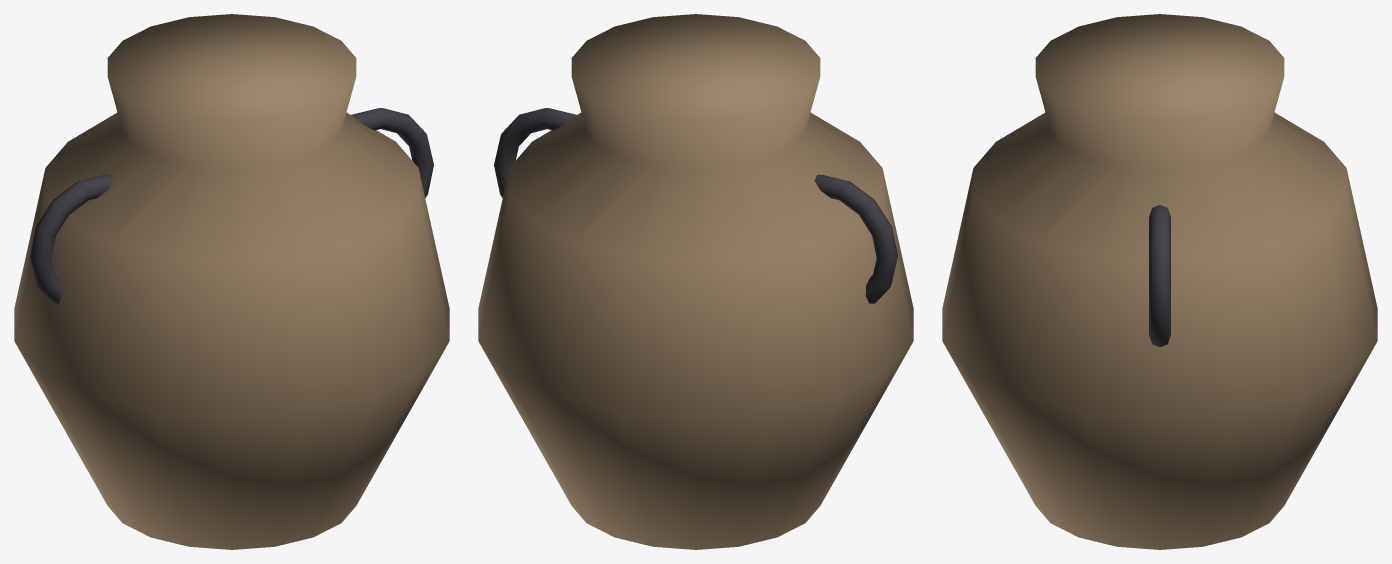
The model's file is urn_pot_urn.glb.
The picture shows the model from 3 angles, left to right: view 1: azimuth 30°, elevation 25°; view 2: azimuth 150°, elevation 25°; view 3: azimuth 270°, elevation 25°; orthographic projection.
Parts seen in each view (by area): view 1: GD_urn_pot_urn__m0, GD_urn_pot_urn__m1; view 2: GD_urn_pot_urn__m0, GD_urn_pot_urn__m1; view 3: GD_urn_pot_urn__m0, GD_urn_pot_urn__m1.
Part boxes in pixels (x1,y1,x2,y2): GD_urn_pot_urn__m0: (14,14,449,549); GD_urn_pot_urn__m1: (30,108,433,303); GD_urn_pot_urn__m0: (478,14,913,549); GD_urn_pot_urn__m1: (494,108,897,303); GD_urn_pot_urn__m0: (942,14,1377,549); GD_urn_pot_urn__m1: (1149,205,1170,347).
Bounding box in the file's own units: 0.294 × 0.3 × 0.2757.
